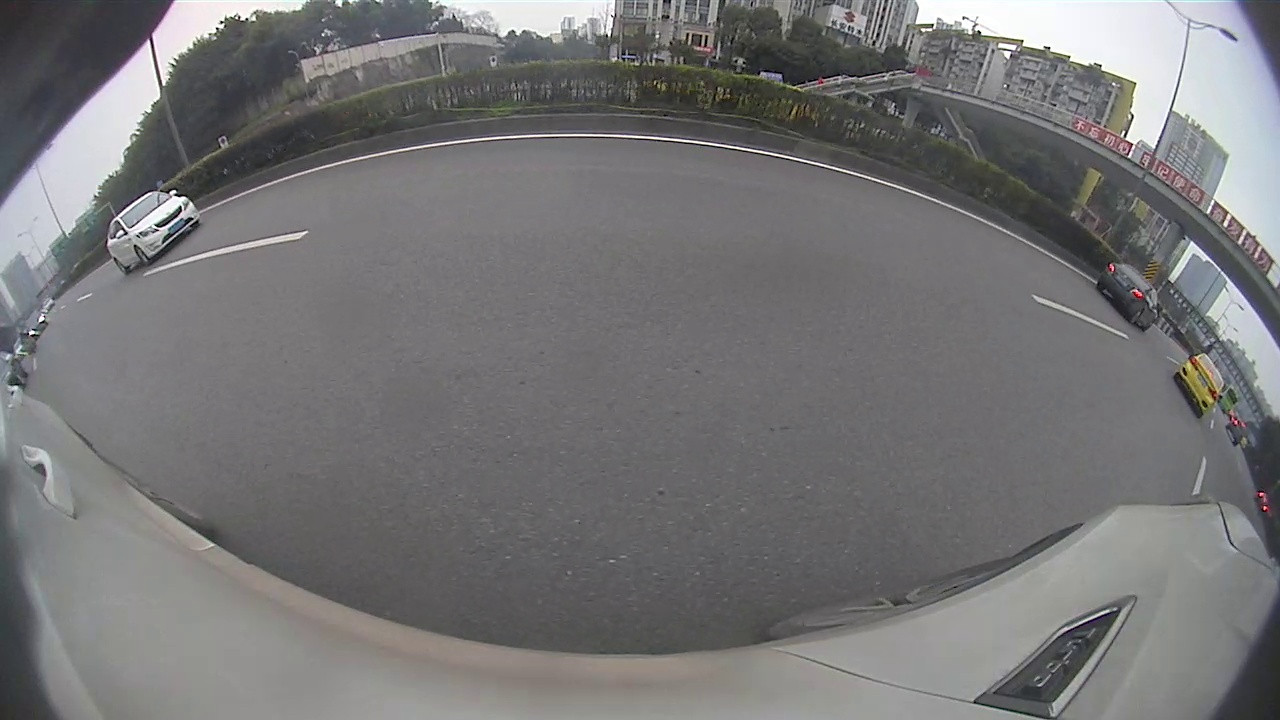car: (105, 187, 204, 276), (1096, 260, 1163, 333), (1171, 342, 1226, 421)
front: (134, 245, 151, 267)
rear: (1128, 307, 1144, 327)
